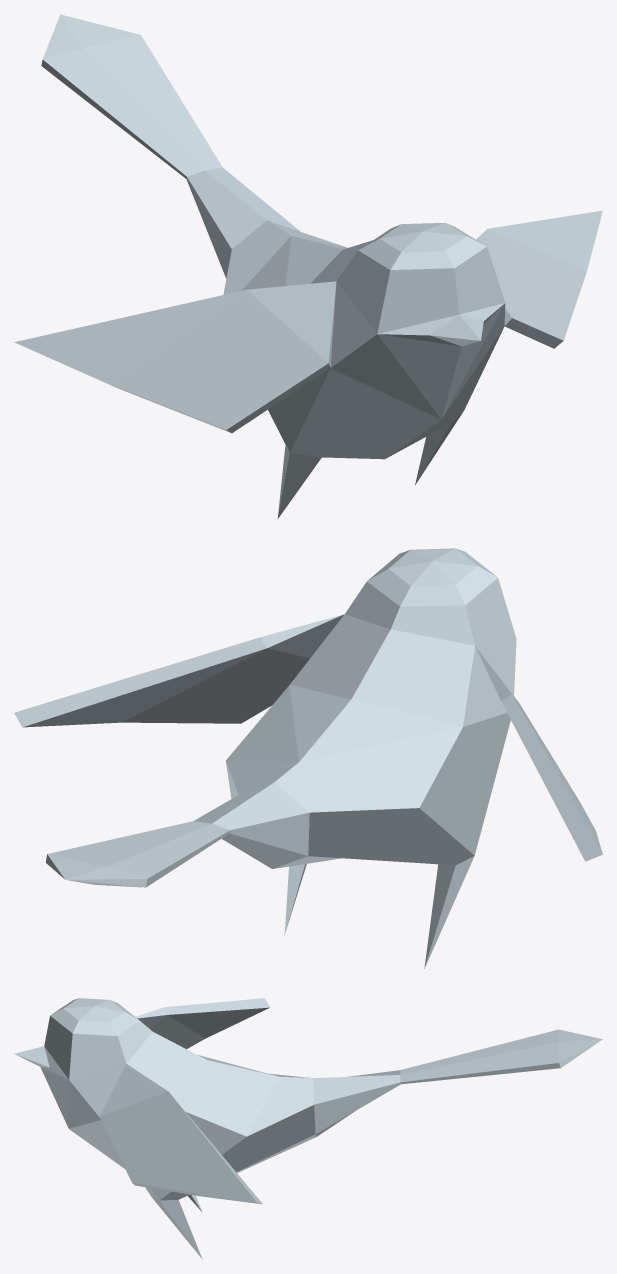
The model's file is quaternius_bird.glb.
The picture shows the model from 3 angles, top to bottom: view 1: azimuth 30°, elevation 25°; view 2: azimuth 150°, elevation 25°; view 3: azimuth 270°, elevation 25°; orthographic projection. The views are drawn at different scales.
Size of the model in its own units: 0.2436 by 0.1308 by 0.3031.
